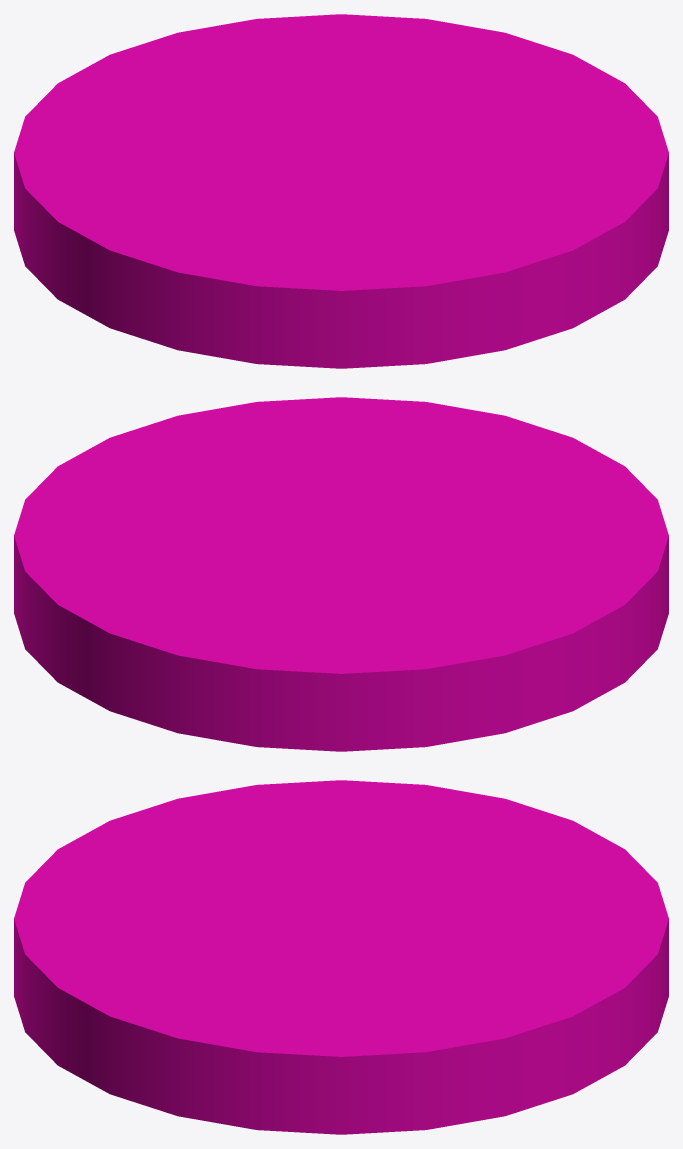
The model's file is lampePlafondBasique.fbx.
3 views of the same model, one above another, from view 1: azimuth 30°, elevation 25°; view 2: azimuth 150°, elevation 25°; view 3: azimuth 270°, elevation 25° (orthographic).
Visible parts, largest first — view 1: Circle; view 2: Circle; view 3: Circle.
Boxes of the visible parts, x1,y1,x2,y2 form: Circle: (14, 14, 668, 368); Circle: (14, 397, 668, 751); Circle: (14, 780, 668, 1134).
Bounding box in the file's own units: 200 × 26.22 × 200.
